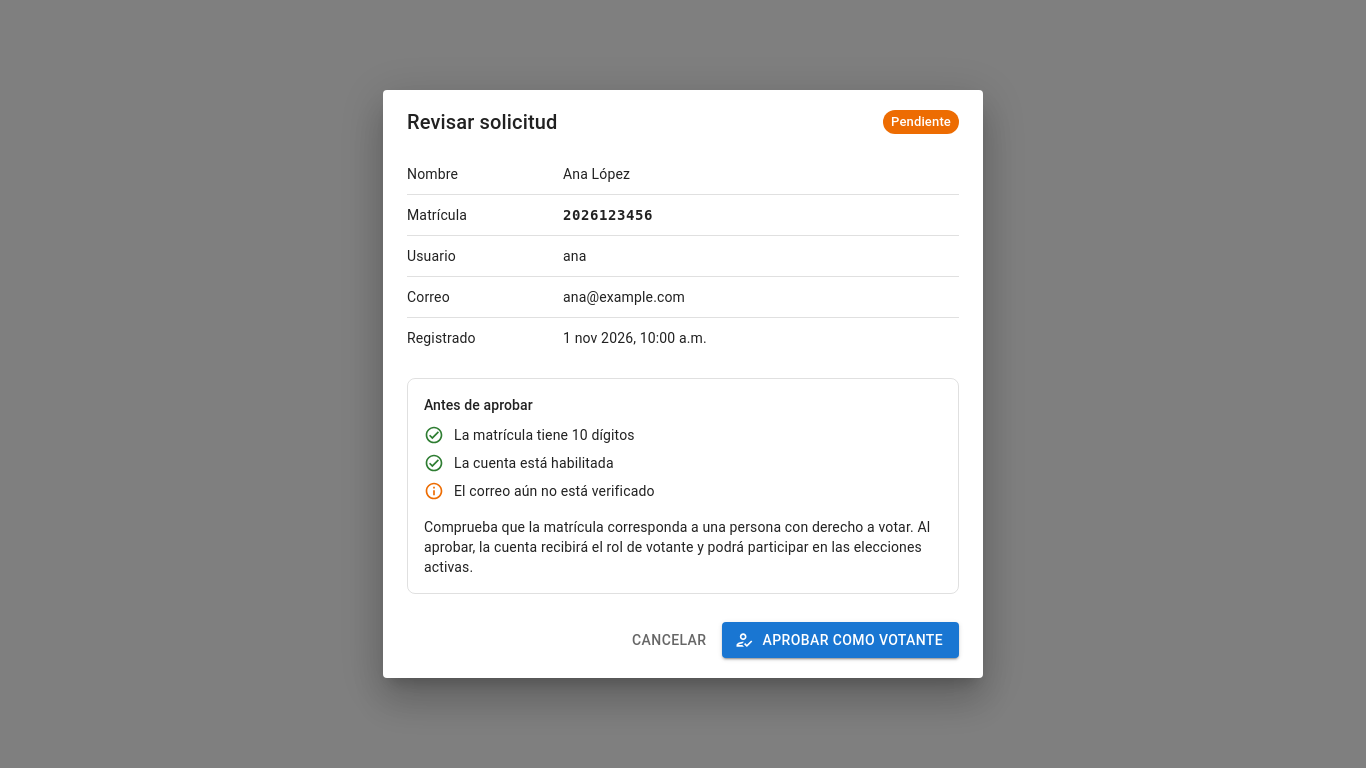
Test case: VoterReviewDialog › informa el motivo del rechazo y refresca la lista si ya estaba aprobado
The width and height of the screenshot is (1366, 768).
Step 1. Click the button "Aprobar como votante" → (841, 640), box [722, 622, 959, 658]
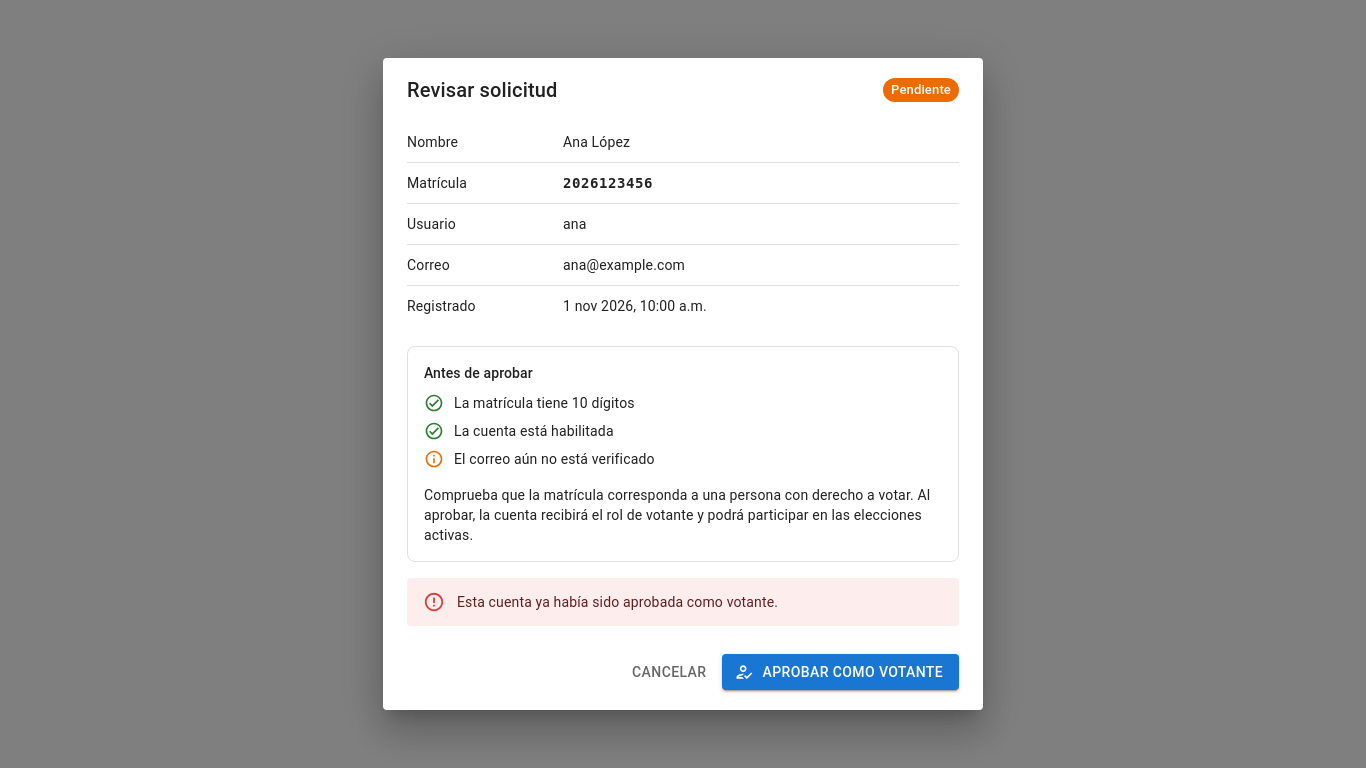
Expected: the text "Esta cuenta ya había sido aprobada como votante." is shown, [457, 594, 778, 610]
